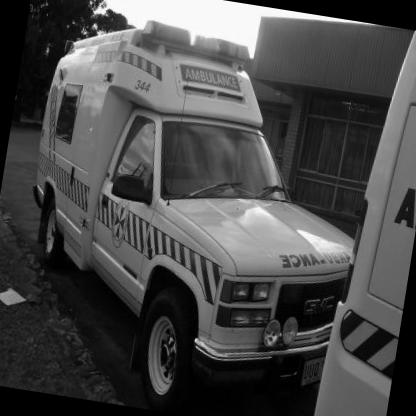ambulance: (1, 13, 386, 416)
